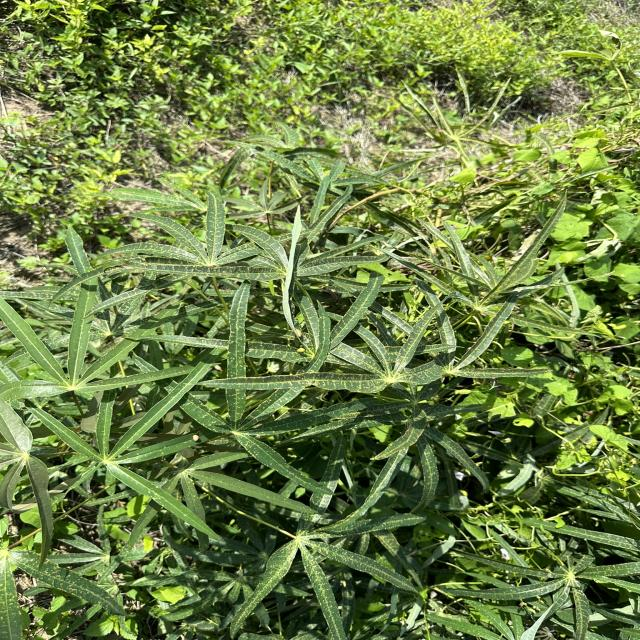Maleza: (0, 0, 409, 149), (253, 0, 592, 125), (547, 0, 634, 480), (0, 0, 117, 225), (457, 386, 556, 454)
Mosca: (282, 329, 312, 355), (181, 419, 206, 446)
